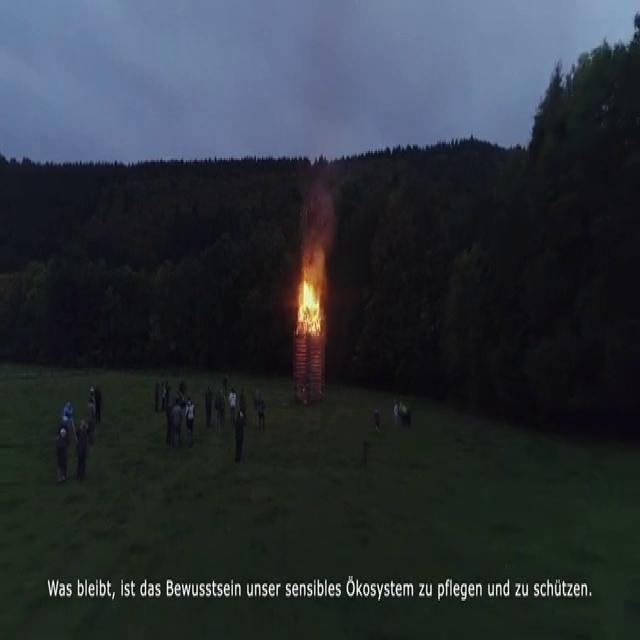Fire: (294, 242, 325, 402)
